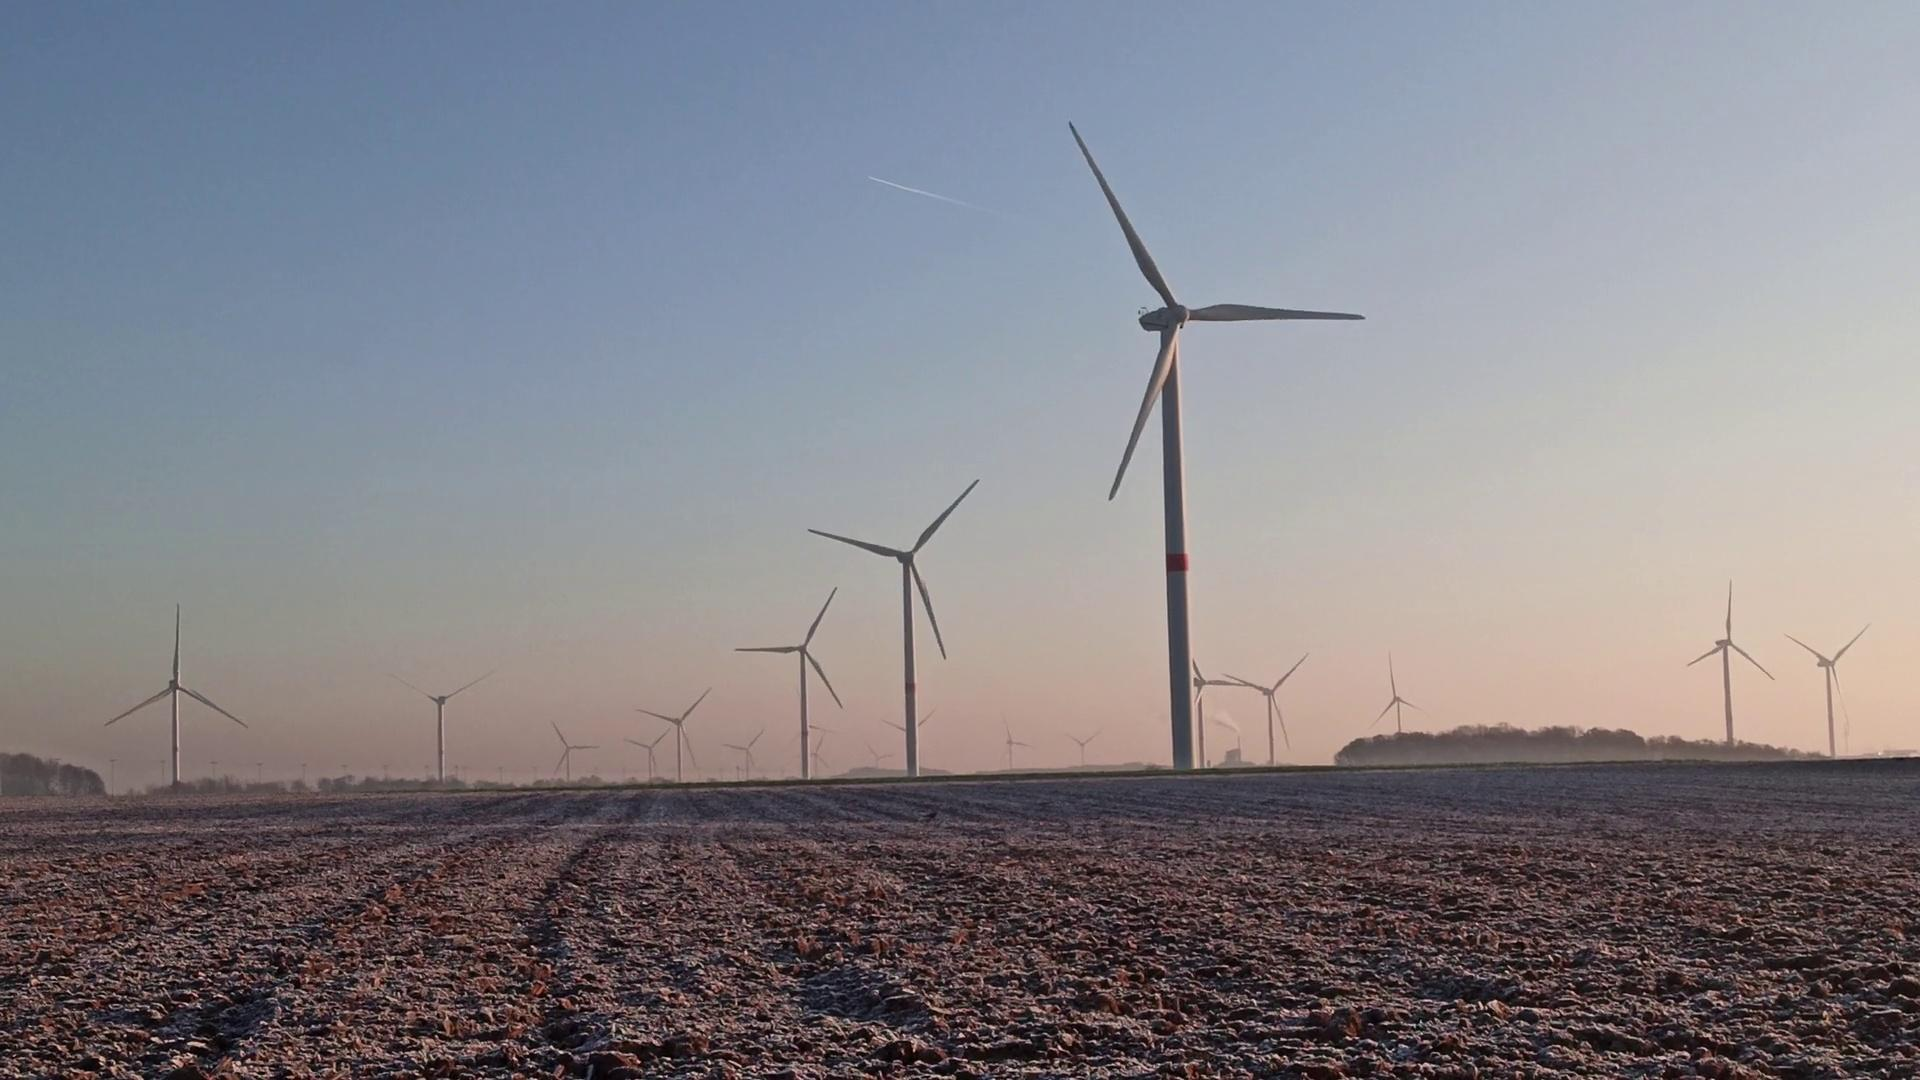turbine: (972, 120, 1367, 787), (829, 448, 992, 771), (86, 592, 252, 808), (356, 616, 514, 810), (760, 560, 884, 774), (1788, 580, 1890, 750), (1673, 584, 1778, 748), (1154, 612, 1245, 781), (1218, 628, 1323, 771), (642, 684, 728, 786), (1364, 640, 1425, 765), (524, 705, 603, 800), (980, 698, 1042, 778), (724, 712, 777, 796), (628, 723, 676, 786), (1065, 720, 1110, 779)
